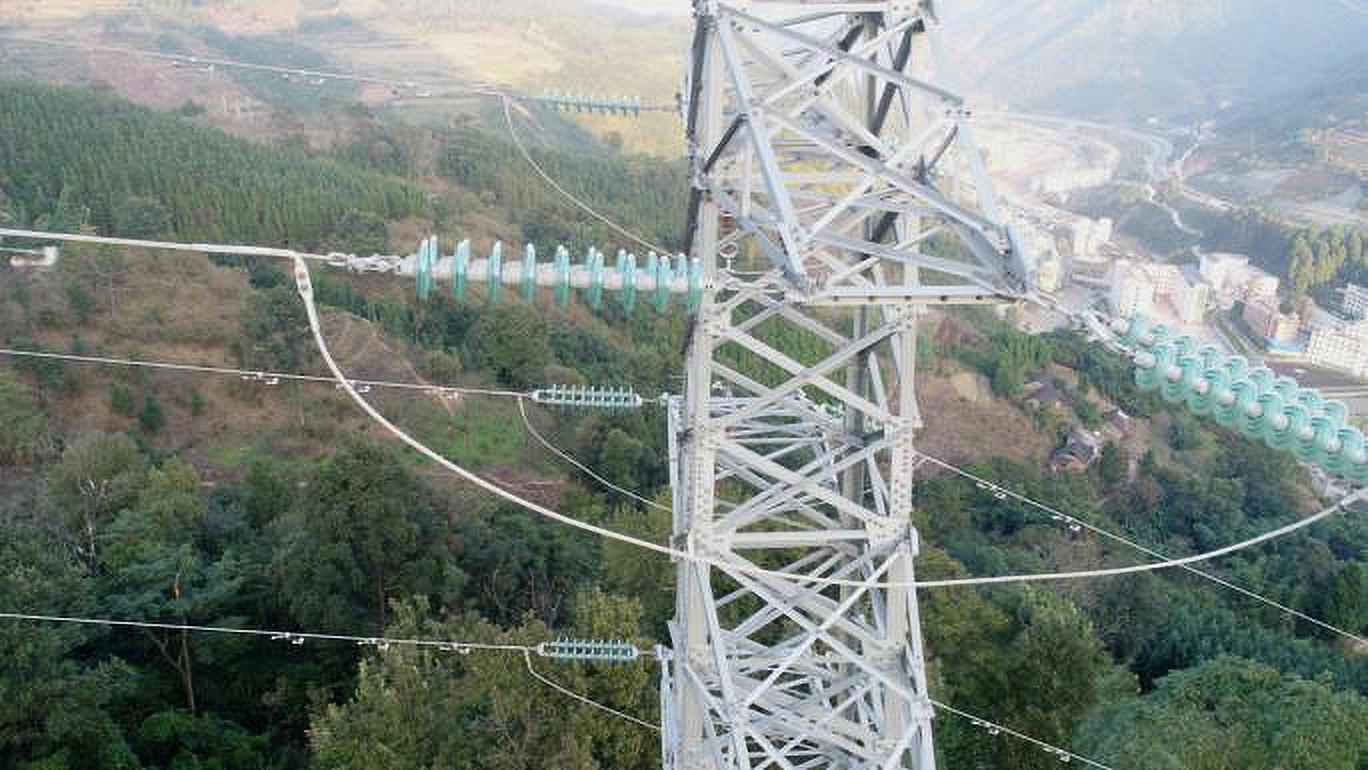insulator: (1112, 306, 1368, 492), (411, 230, 705, 321), (536, 83, 645, 121), (545, 380, 641, 418), (550, 632, 635, 668)
